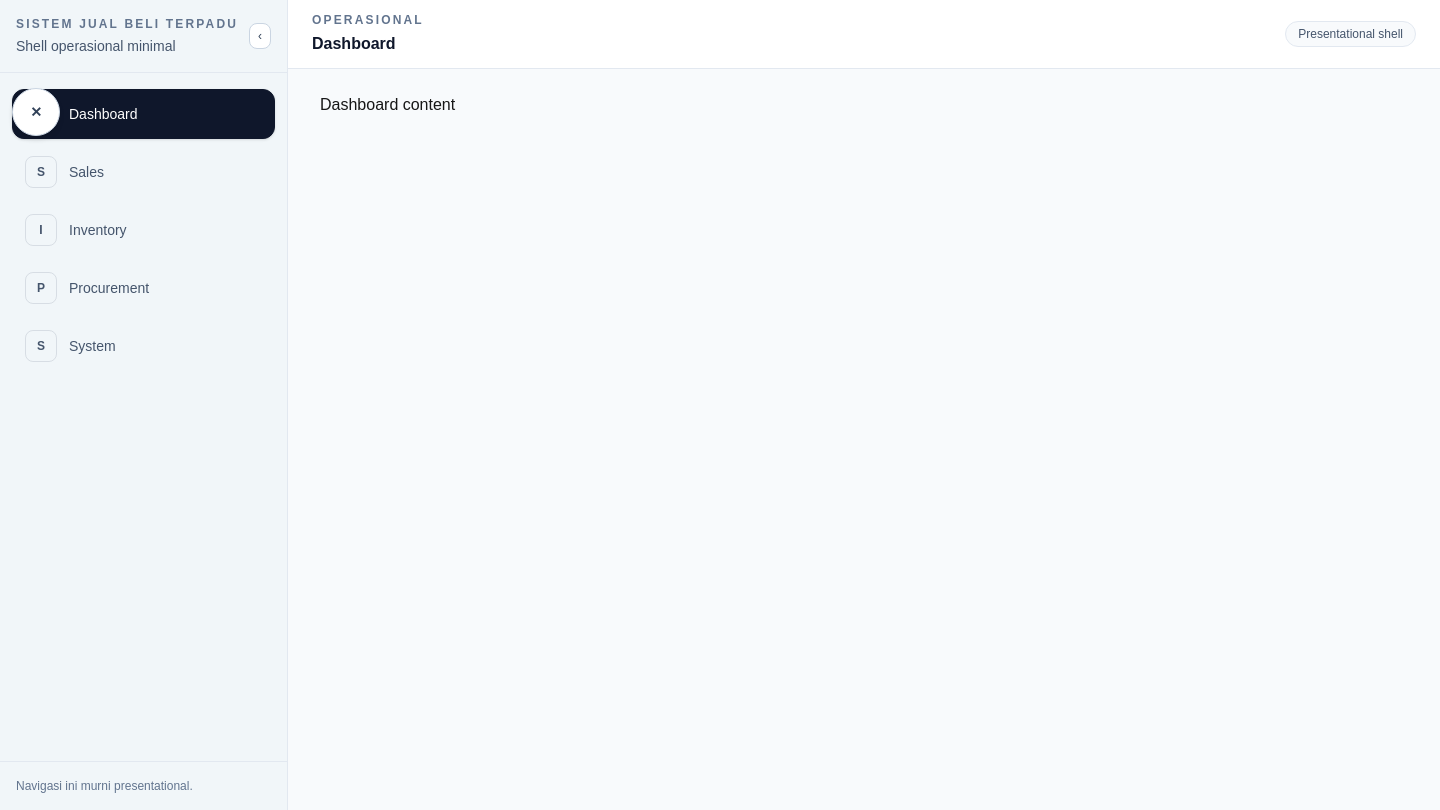
Scenario: AppShell › collapses sidebar without removing navigation access
The image size is (1440, 810).
Click the button named "Collapse sidebar": x=260, y=36 x1=249 y1=23 x2=271 y2=49
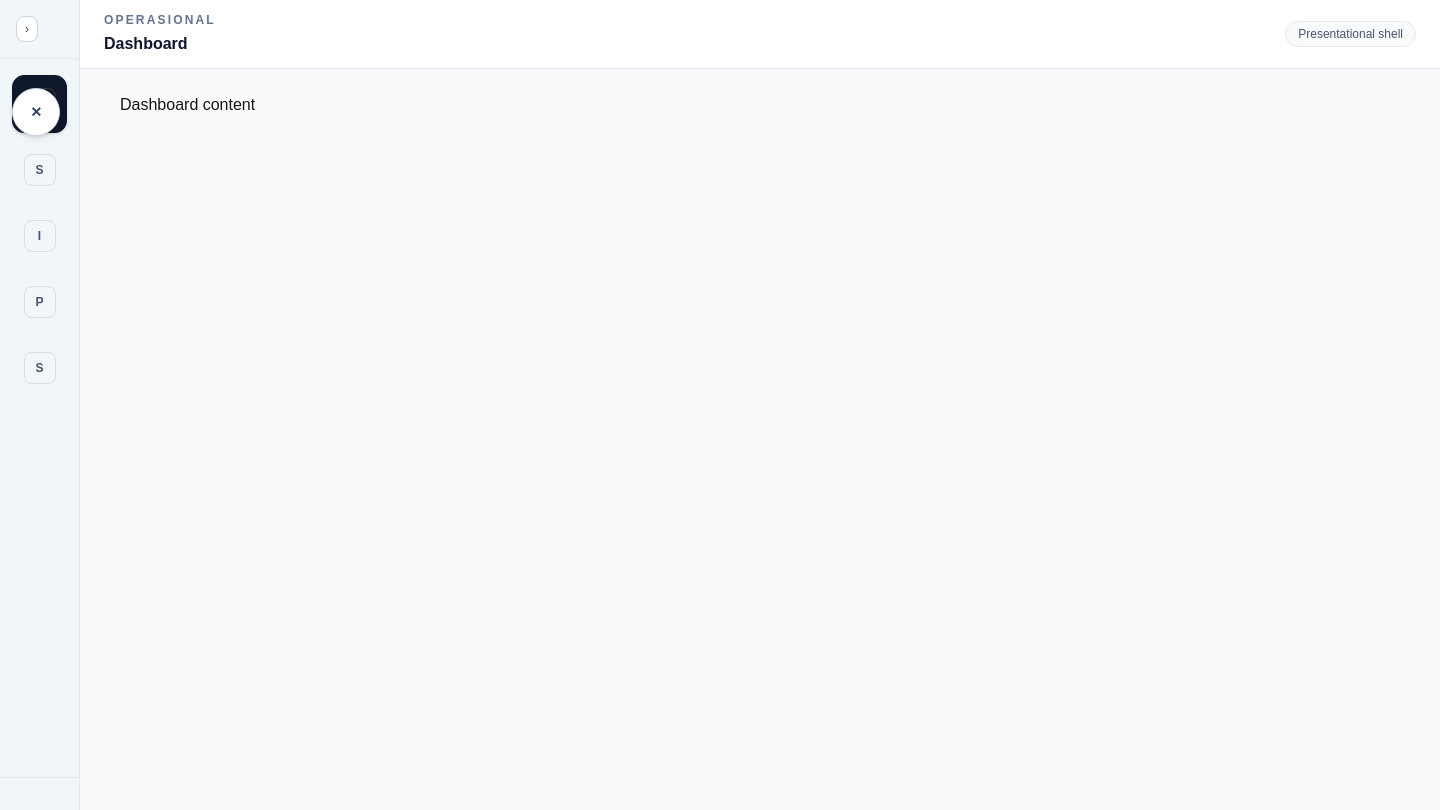
Expected: the link titled "Dashboard" is shown, x1=12 y1=75 x2=67 y2=133
Now the button named "Expand sidebar" is shown, box x1=16 y1=16 x2=38 y2=42
